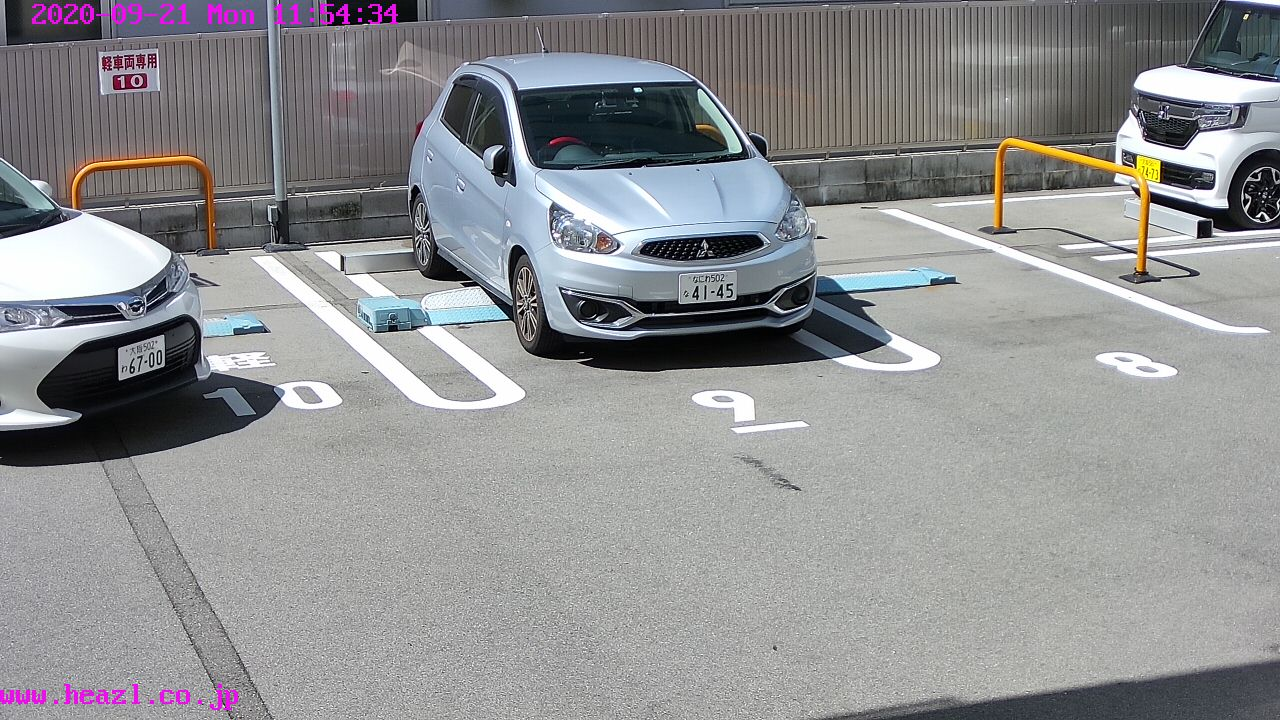number_plate: (677, 270, 738, 302), (115, 343, 168, 375), (1134, 152, 1164, 184)
